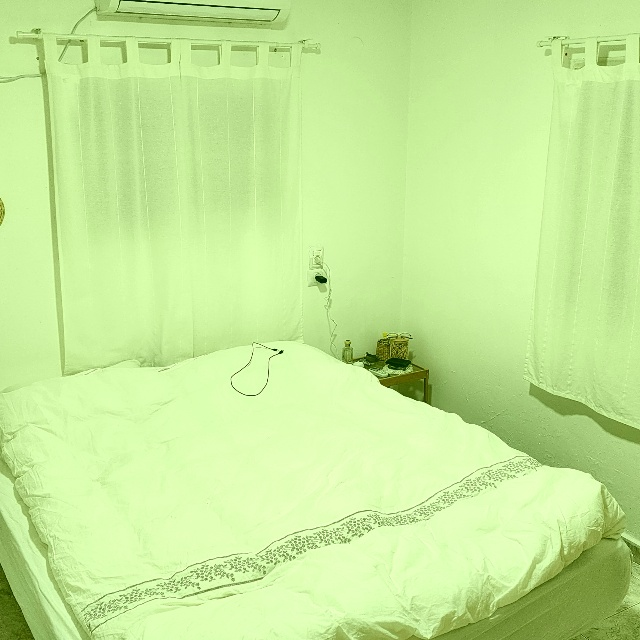glasses: (385, 328, 415, 343)
